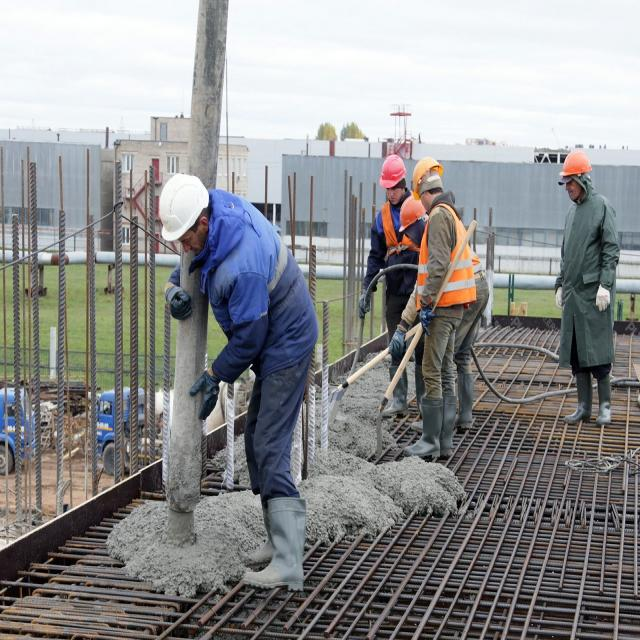Helmet: (162, 173, 209, 258), (414, 158, 446, 202), (560, 152, 593, 184), (381, 157, 408, 196), (398, 200, 420, 236)
Jacket: (419, 209, 469, 315), (382, 206, 404, 278)
NoJacket: (209, 214, 292, 359), (563, 194, 608, 332)
